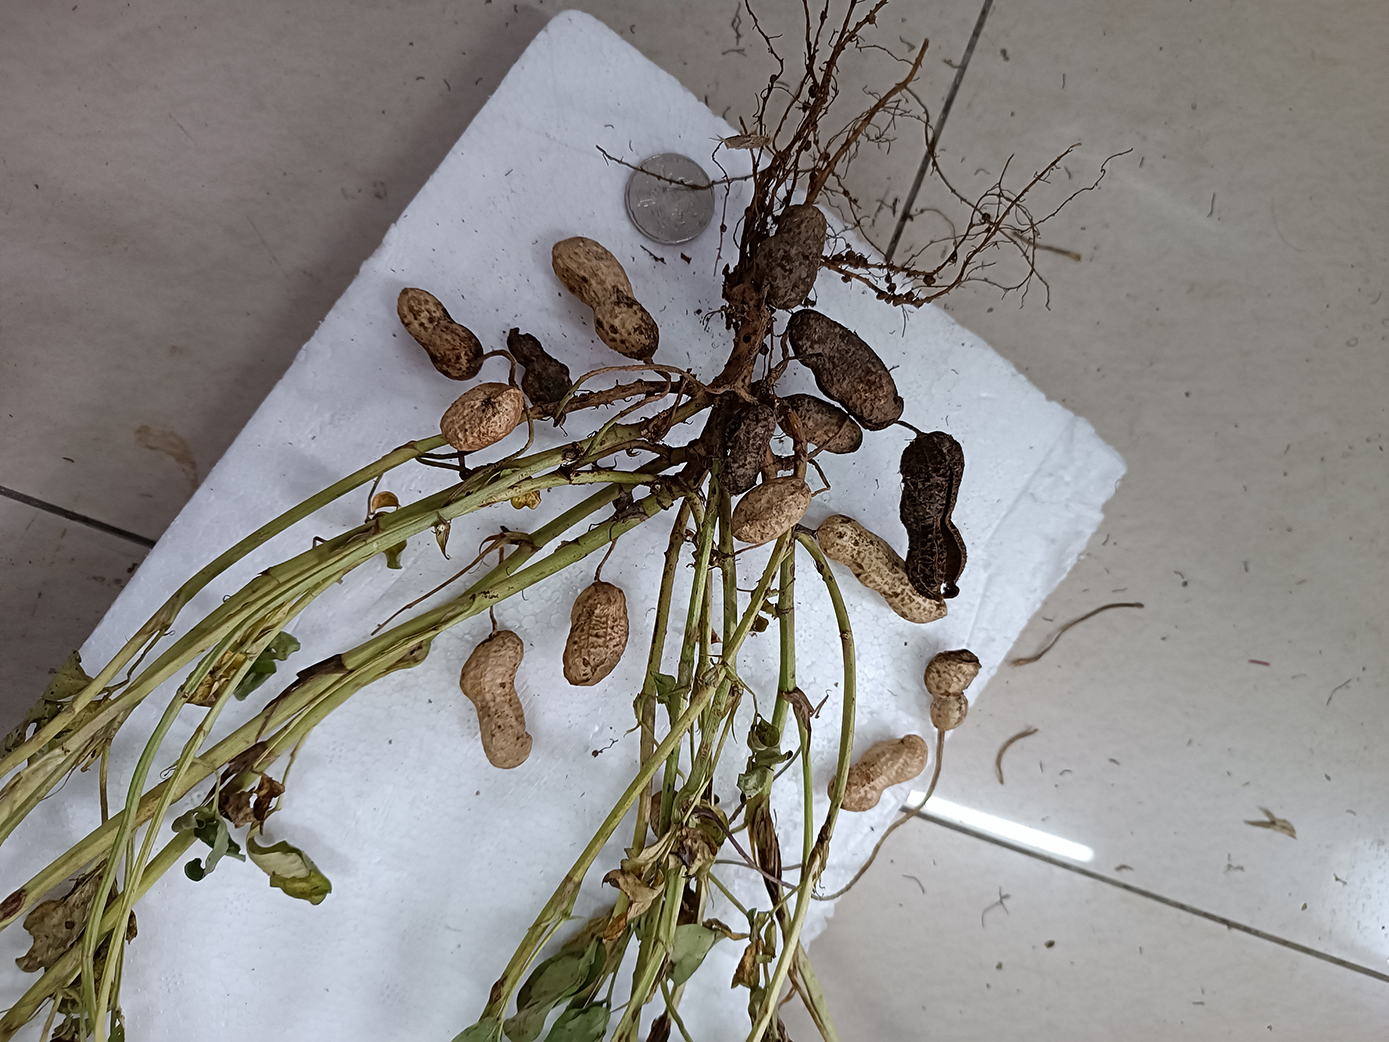h: (819, 517, 948, 623), (551, 236, 657, 359), (459, 630, 535, 769), (829, 736, 930, 811), (562, 582, 629, 687), (440, 382, 525, 450), (732, 477, 812, 544), (921, 646, 980, 733)
l: (786, 312, 906, 433), (900, 433, 969, 601), (397, 286, 483, 377), (771, 202, 826, 312), (724, 396, 778, 494), (508, 325, 576, 402), (780, 397, 861, 455)
